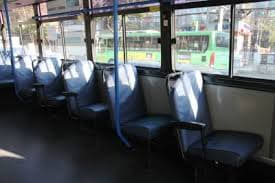seat: (105, 64, 171, 145)
